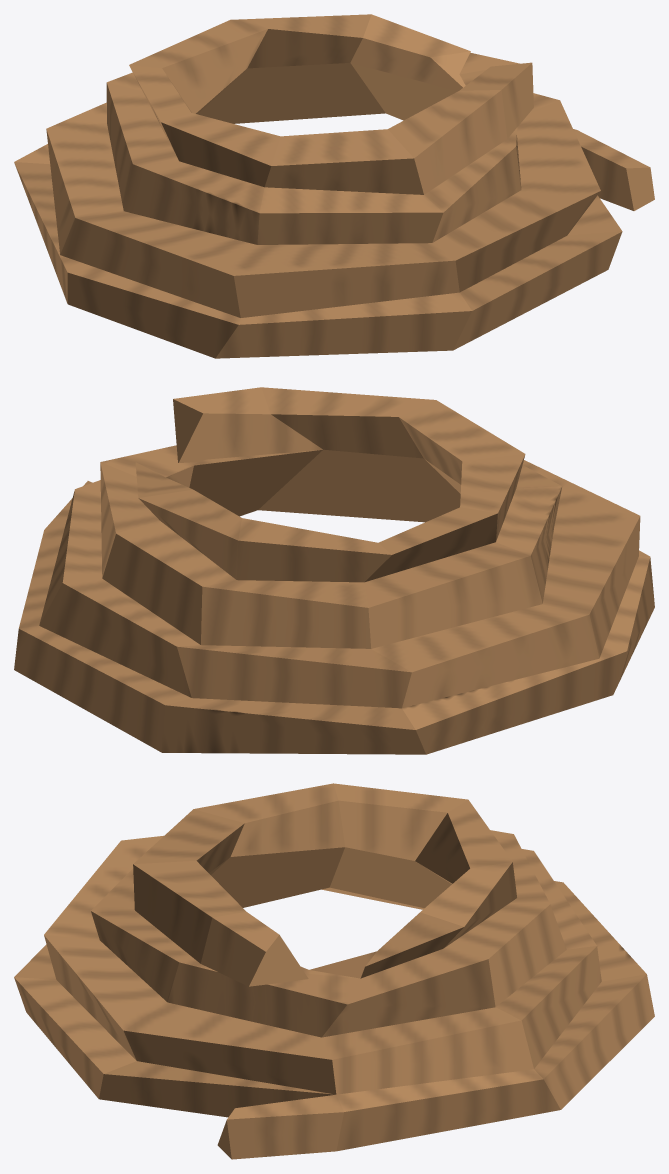
Rendered from Rope Coil1.2.fbx.
3 views of the same model, one above another, from view 1: azimuth 30°, elevation 25°; view 2: azimuth 150°, elevation 25°; view 3: azimuth 270°, elevation 25° (orthographic). The views are drawn at different scales.
Visible parts, largest first — view 1: Rope Coil; view 2: Rope Coil; view 3: Rope Coil.
Part boxes in pixels (left/top/right/bottom): Rope Coil: left=14, top=14, right=654, bottom=358; Rope Coil: left=14, top=387, right=654, bottom=754; Rope Coil: left=14, top=783, right=654, bottom=1159.
Bounding box in the file's own units: 123 × 34.59 × 120.
